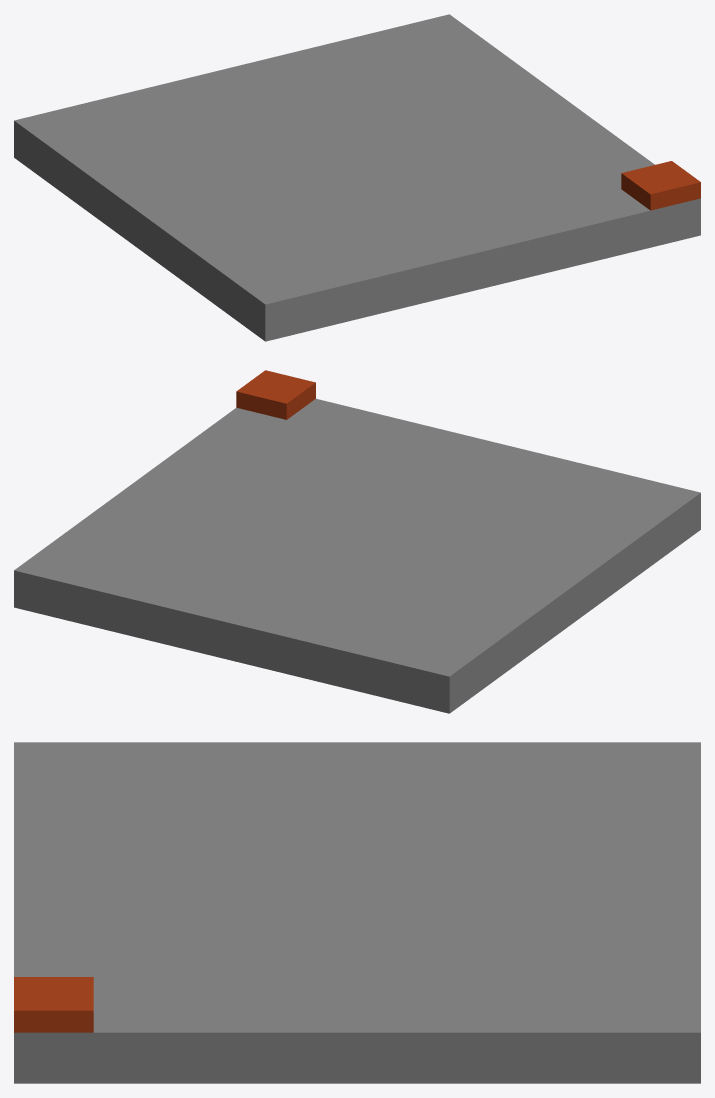
Rendered from Inner_Sidewalk.fbx.
The picture shows the model from 3 angles, top to bottom: view 1: azimuth 30°, elevation 25°; view 2: azimuth 150°, elevation 25°; view 3: azimuth 270°, elevation 25°; orthographic projection. The views are drawn at different scales.
Visible parts, largest first — view 1: Line_Sidewalk; view 2: Line_Sidewalk; view 3: Line_Sidewalk.
Boxes of the visible parts, x1=… form: Line_Sidewalk: x1=14, y1=14, x2=700, y2=341; Line_Sidewalk: x1=14, y1=370, x2=700, y2=713; Line_Sidewalk: x1=14, y1=742, x2=700, y2=1083.
Bounding box in the file's own units: 130 × 15.14 × 130.
Materials: 1 (1 with a texture image).
